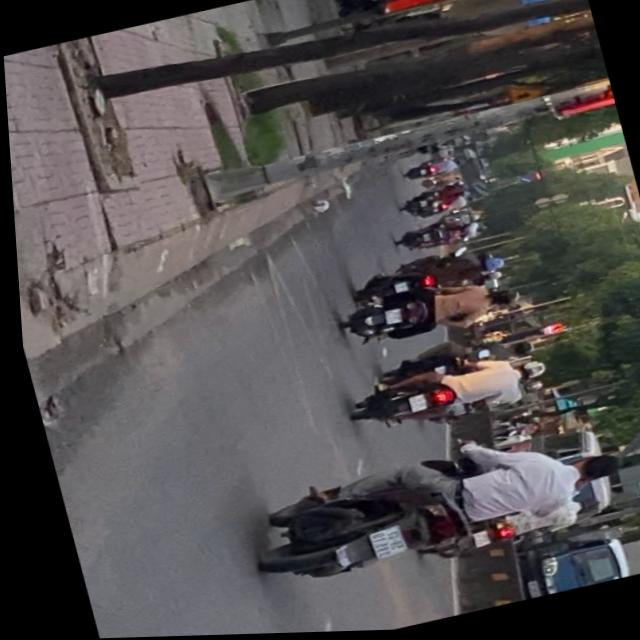helmet: (511, 362, 545, 386)
licenseplate: (230, 416, 636, 598), (339, 349, 551, 440)
motorcyclist: (564, 453, 620, 491)
nohelmet: (362, 528, 401, 563), (404, 397, 423, 414)
